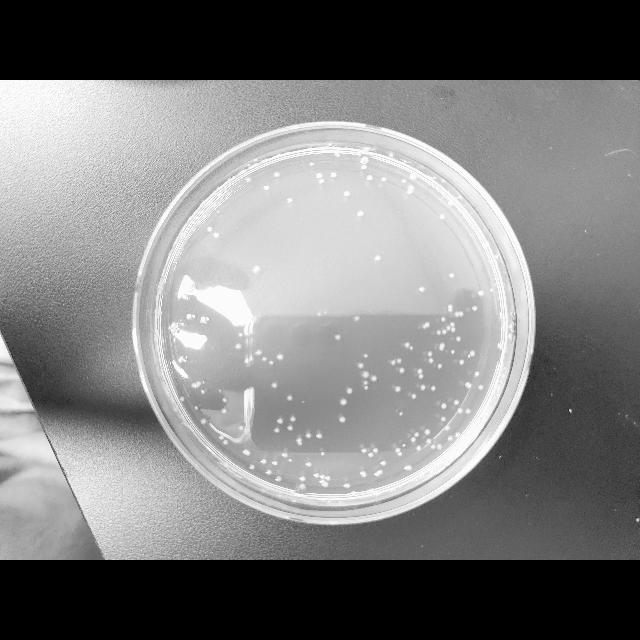colony: (361, 156, 369, 164), (482, 240, 490, 248), (338, 416, 346, 424), (409, 173, 417, 180), (334, 334, 342, 341), (339, 398, 346, 406), (359, 470, 366, 478), (253, 265, 260, 273), (316, 173, 324, 179), (330, 172, 338, 178), (334, 152, 342, 158), (362, 146, 370, 152), (360, 164, 368, 170), (448, 200, 454, 208), (374, 255, 382, 261), (362, 372, 370, 378), (371, 374, 377, 382), (298, 484, 306, 490), (200, 418, 208, 424), (256, 348, 262, 356), (196, 380, 202, 388), (464, 382, 472, 388), (277, 354, 283, 361), (180, 230, 184, 240), (213, 232, 219, 238), (274, 172, 280, 178), (367, 174, 373, 180), (344, 190, 350, 196), (358, 210, 364, 216), (388, 152, 394, 158), (408, 184, 414, 190), (439, 214, 445, 220), (448, 272, 454, 278), (494, 254, 500, 260), (478, 290, 484, 296), (419, 286, 425, 292), (354, 316, 360, 322), (424, 322, 430, 328), (428, 357, 434, 363), (396, 358, 402, 364), (390, 360, 396, 366), (420, 385, 426, 391), (430, 385, 436, 391), (358, 363, 364, 369), (474, 371, 480, 377), (478, 384, 484, 390), (441, 403, 447, 409), (440, 416, 446, 422), (347, 388, 353, 394), (316, 433, 322, 439), (373, 447, 379, 453), (368, 452, 374, 458), (410, 436, 416, 442), (424, 429, 430, 435), (426, 438, 432, 444), (416, 445, 422, 451), (437, 444, 443, 450), (448, 435, 454, 441), (322, 481, 328, 487), (351, 490, 357, 496), (368, 488, 374, 494), (290, 416, 296, 422), (277, 418, 283, 424), (282, 452, 288, 458), (275, 476, 281, 482), (260, 458, 266, 464), (218, 434, 224, 440), (242, 448, 248, 454), (271, 382, 277, 388), (191, 382, 197, 388), (182, 294, 188, 300), (189, 281, 195, 287), (222, 462, 228, 468), (244, 178, 252, 182), (344, 484, 351, 488), (208, 226, 212, 232), (264, 186, 270, 190), (287, 198, 293, 202), (308, 162, 314, 166), (320, 178, 324, 184), (327, 142, 333, 146), (382, 176, 386, 182), (402, 178, 406, 184), (407, 190, 413, 194), (472, 306, 478, 310), (450, 322, 456, 326), (450, 328, 456, 332), (442, 330, 448, 334), (405, 342, 409, 348), (457, 336, 461, 342), (470, 350, 474, 356), (440, 179, 446, 183), (458, 193, 462, 199), (460, 359, 464, 365), (418, 368, 422, 374), (418, 374, 424, 378), (400, 367, 404, 373), (364, 380, 368, 386), (396, 386, 400, 392), (466, 408, 470, 414), (454, 400, 460, 404), (458, 408, 462, 414), (444, 426, 450, 430), (380, 461, 386, 465), (374, 473, 380, 477), (377, 470, 383, 474), (396, 447, 400, 453), (414, 432, 420, 436), (456, 432, 460, 438), (325, 476, 331, 480), (320, 474, 326, 478), (319, 479, 325, 483), (374, 492, 380, 496), (509, 323, 513, 329), (508, 333, 512, 339), (306, 432, 310, 438), (287, 426, 293, 430), (296, 438, 302, 442), (274, 428, 280, 432), (305, 462, 311, 466), (300, 476, 304, 482), (272, 461, 278, 465), (266, 470, 272, 474), (250, 464, 254, 470), (238, 426, 244, 430), (222, 408, 226, 414), (180, 396, 184, 402), (262, 357, 268, 361), (235, 344, 241, 348), (239, 332, 243, 338), (179, 355, 183, 361), (186, 314, 190, 320), (188, 288, 194, 292), (171, 328, 177, 332), (168, 326, 174, 330), (200, 317, 206, 321), (173, 406, 177, 412), (336, 147, 340, 151), (448, 304, 452, 308), (448, 308, 452, 312), (441, 318, 445, 322), (455, 312, 459, 316), (459, 312, 463, 316), (447, 326, 451, 330), (437, 330, 441, 334), (422, 325, 426, 329), (409, 346, 413, 350), (440, 343, 444, 347), (440, 347, 444, 351), (428, 352, 432, 356), (438, 364, 442, 368), (364, 354, 368, 358), (364, 386, 368, 390), (412, 394, 416, 398), (362, 448, 366, 452), (398, 452, 402, 456), (431, 444, 435, 448), (404, 466, 408, 470), (408, 466, 412, 470), (314, 474, 318, 478), (321, 451, 325, 455), (298, 442, 302, 446), (288, 458, 292, 462), (224, 440, 228, 444), (246, 451, 250, 455), (222, 398, 226, 402), (201, 390, 205, 394), (270, 361, 274, 365), (288, 396, 292, 400), (245, 358, 249, 362), (172, 322, 176, 326), (433, 176, 437, 180), (254, 157, 258, 161), (491, 288, 494, 292), (246, 164, 252, 166), (452, 350, 454, 354), (468, 354, 470, 358), (498, 343, 500, 347), (400, 412, 402, 416), (402, 444, 406, 446), (195, 406, 198, 408), (219, 390, 221, 392), (404, 160, 406, 162)
